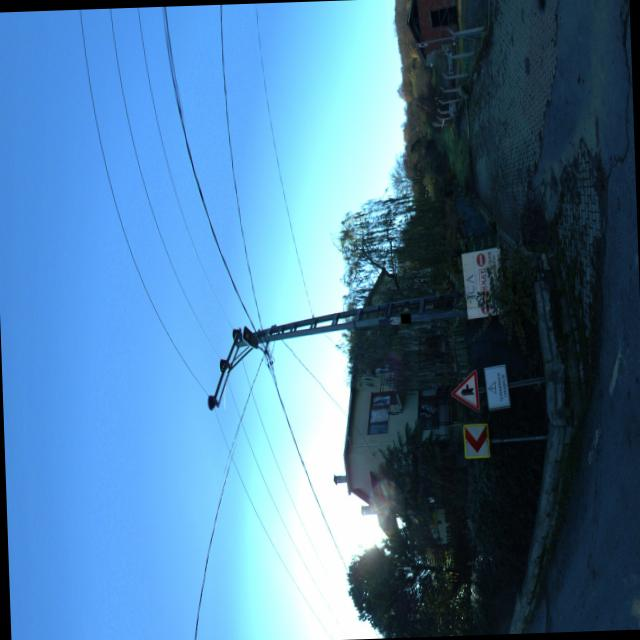Utility Pole Information Plate: (400, 312, 411, 322)
